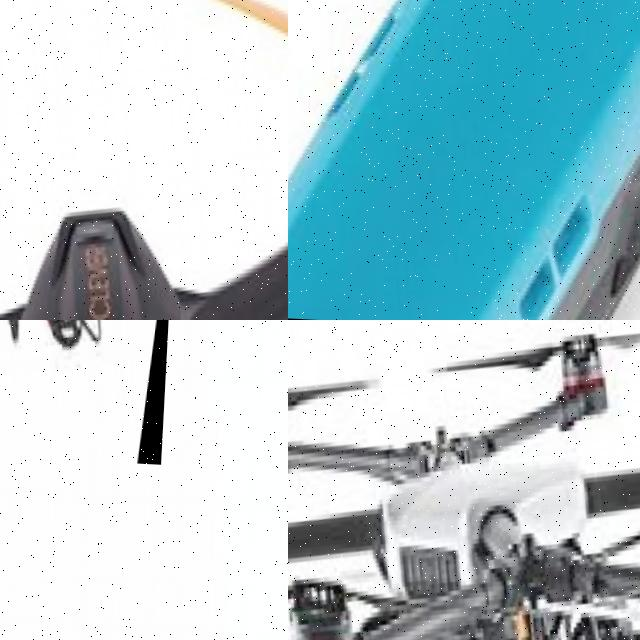0: (0, 320, 177, 464)
drone: (288, 0, 640, 320), (288, 320, 640, 640), (0, 0, 288, 320)
